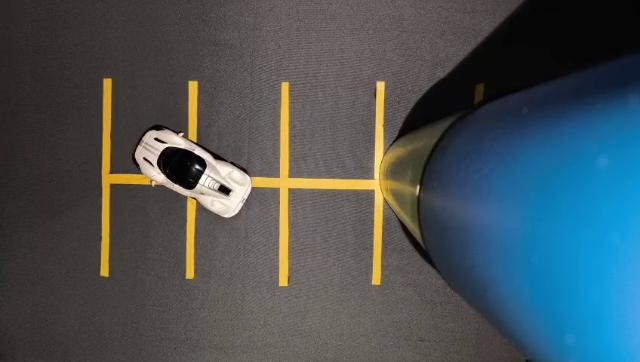toy_car: (113, 102, 279, 241)
